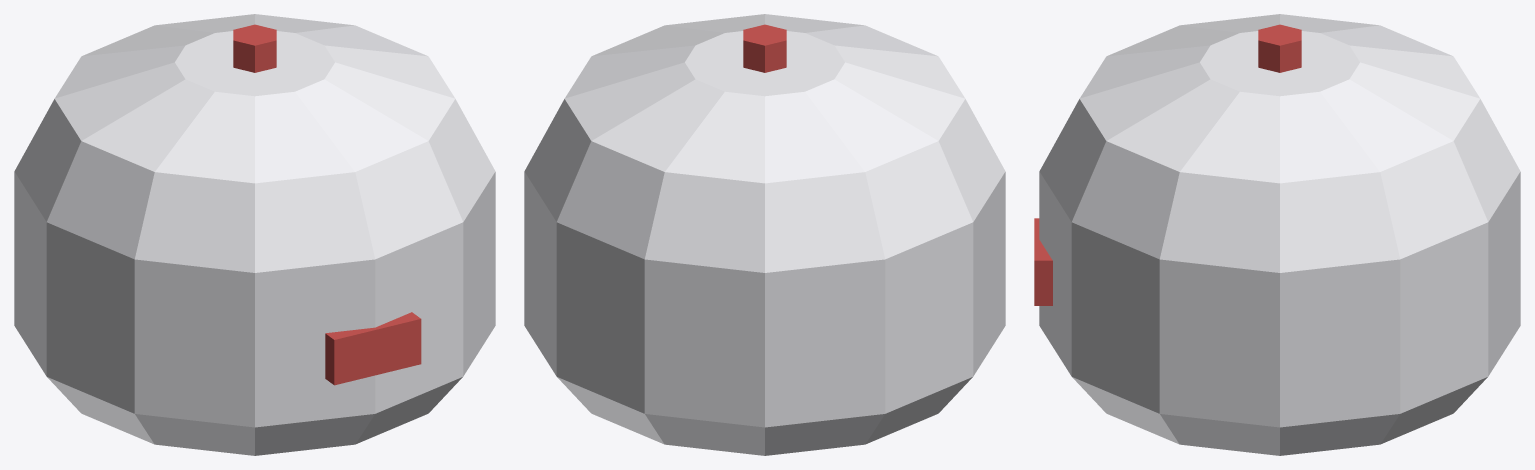
Rendered from rice-cooker.glb.
The picture shows the model from 3 angles, left to right: view 1: azimuth 30°, elevation 25°; view 2: azimuth 150°, elevation 25°; view 3: azimuth 270°, elevation 25°; orthographic projection.
Visible parts, largest first — view 1: rice-cooker; view 2: rice-cooker; view 3: rice-cooker.
Boxes of the visible parts, <box> form: rice-cooker: <box>14,14,495,455</box>; rice-cooker: <box>524,14,1005,455</box>; rice-cooker: <box>1034,14,1520,455</box>.
Bounding box in the file's own units: 0.48 × 0.37 × 0.485.
Materials: 1 (1 with a texture image).
